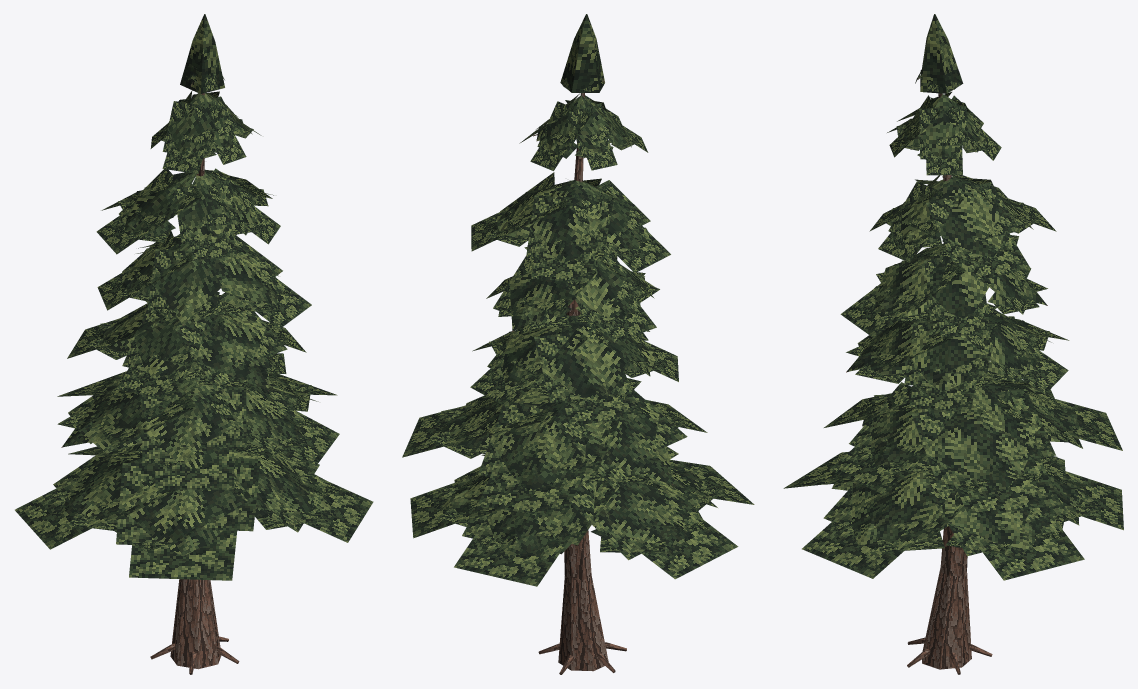
File: TREE_Pine_A.glb
3 views of the same model, side by side, from view 1: azimuth 30°, elevation 25°; view 2: azimuth 150°, elevation 25°; view 3: azimuth 270°, elevation 25° (orthographic).
Parts seen in each view (by area): view 1: TREE_Pine_A__Card, TREE_Pine_A__Foliage, TREE_Pine_A__Bark; view 2: TREE_Pine_A__Card, TREE_Pine_A__Foliage, TREE_Pine_A__Bark; view 3: TREE_Pine_A__Card, TREE_Pine_A__Foliage, TREE_Pine_A__Bark.
Part boxes in pixels (<box>): TREE_Pine_A__Card: <box>15,64,373,580</box>; TREE_Pine_A__Foliage: <box>60,14,331,556</box>; TREE_Pine_A__Bark: <box>61,82,268,674</box>; TREE_Pine_A__Card: <box>402,42,754,586</box>; TREE_Pine_A__Foliage: <box>439,14,705,556</box>; TREE_Pine_A__Bark: <box>512,79,678,674</box>; TREE_Pine_A__Card: <box>783,42,1123,580</box>; TREE_Pine_A__Foliage: <box>832,14,1093,550</box>; TREE_Pine_A__Bark: <box>831,78,1047,674</box>.
Size of the model in its own units: 6.18 by 12.52 by 5.99.
3 materials, 3 textured.
